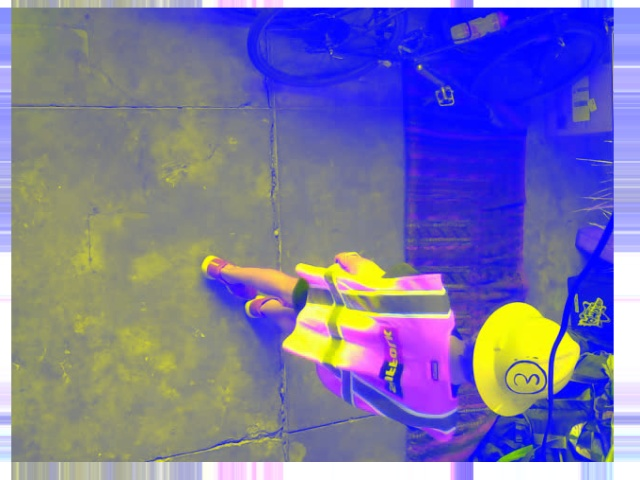three: (504, 359, 544, 392)
